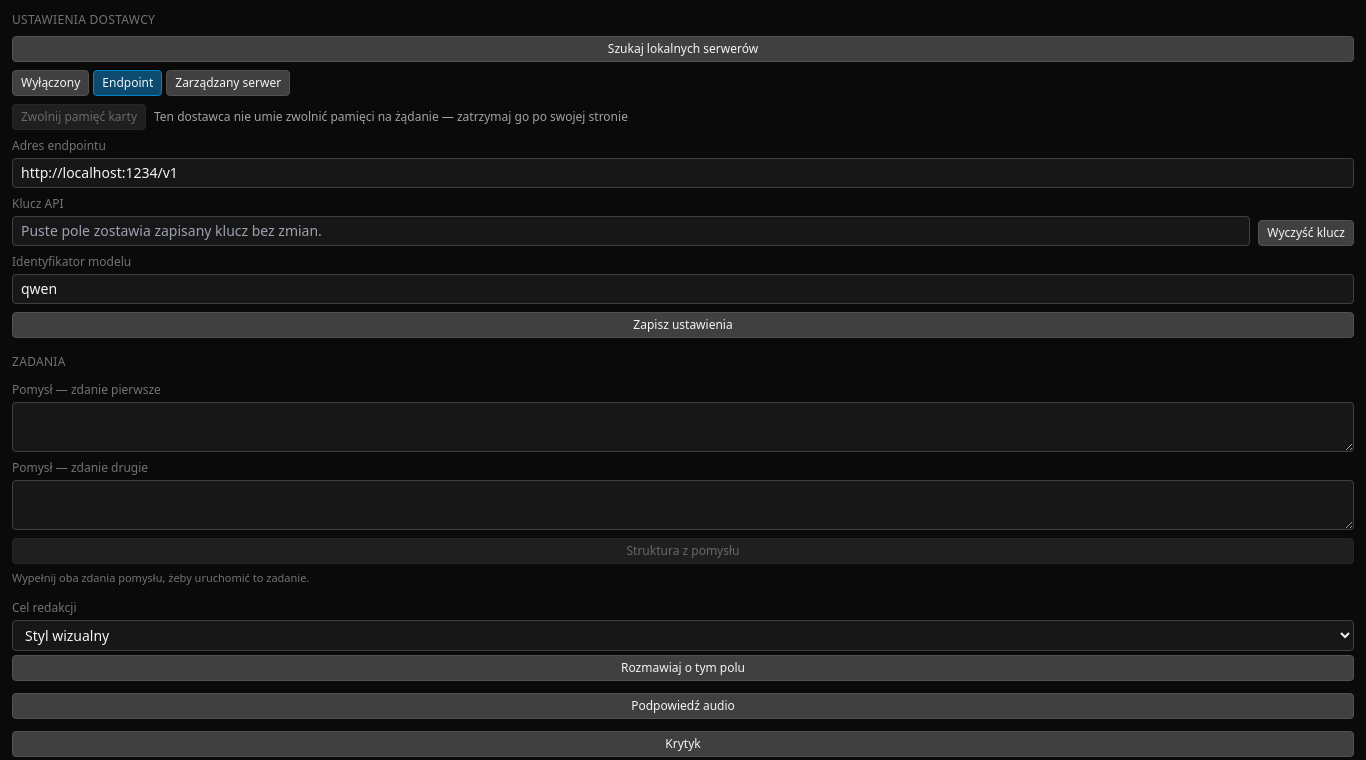
it: LlmPanel — czyszczenie klucza API (fix round 1/5, punkt 1) › wpisanie nowego znaku po wyczyszczeniu chowa potwierdzenie — nie zostaje jako stały, mylący napis
Expected: the password field labelled "Klucz API" is shown, [12,216,1250,246]
Click the button "Wyczyść klucz" at (1306, 233), box [1258,220,1354,246]
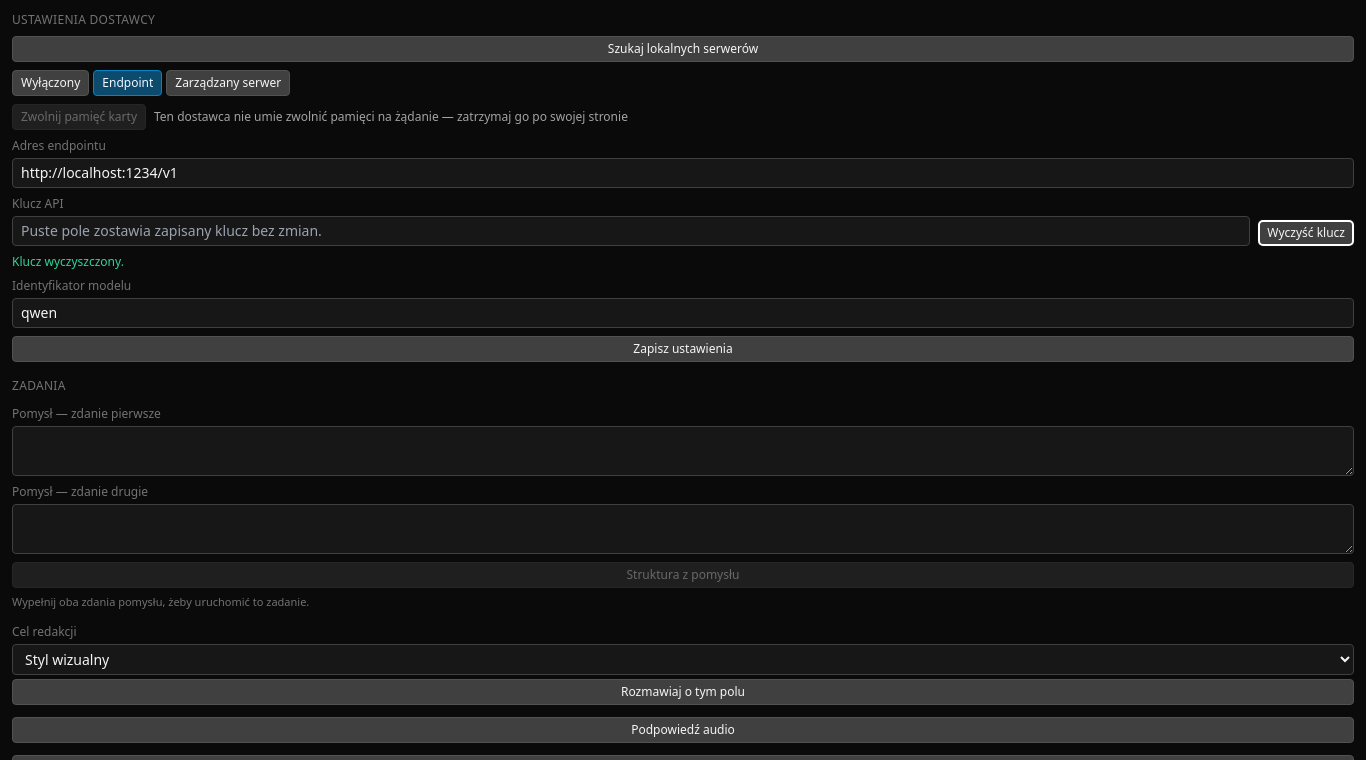
Expected: the text "Klucz wyczyszczony." is shown, [12,253,124,270]
Type "x" into the password field labelled "Klucz API" at (631, 231), box [12,216,1250,246]
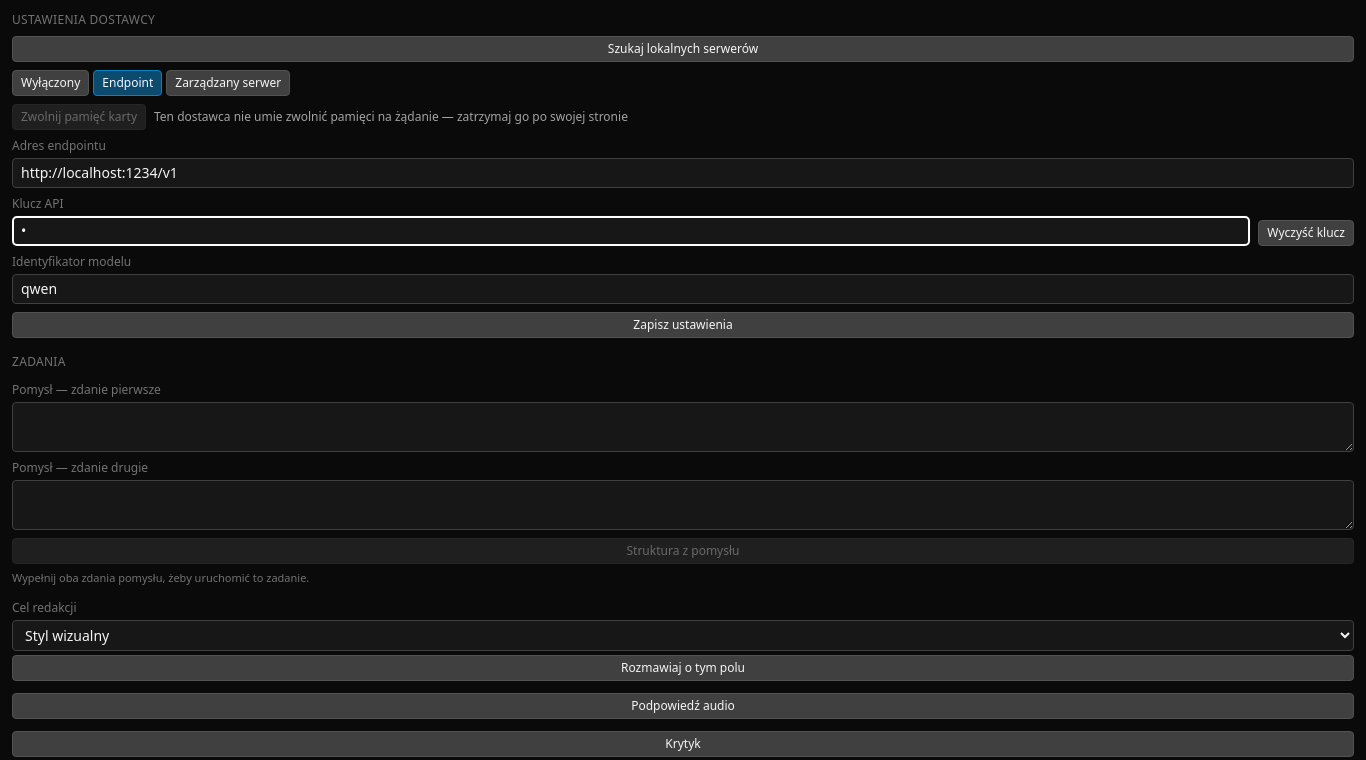
Expected: the text "Klucz wyczyszczony." is gone
